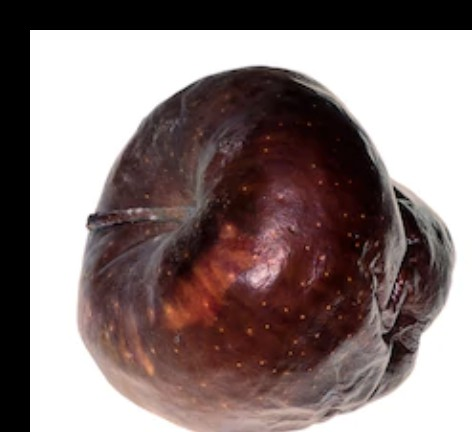rotten_apple: (76, 64, 457, 432)
